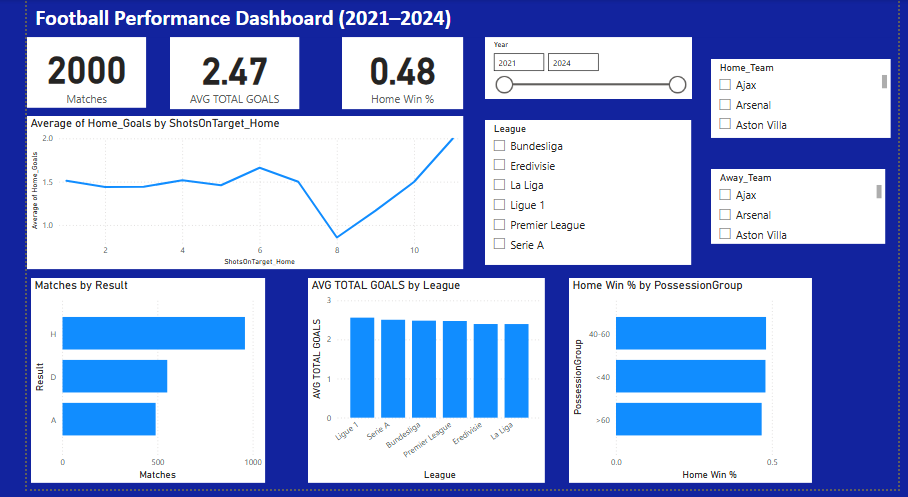

The page's visual inventory and layout, read from the dashboard file:
{"tool":"powerbi","page":{"name":"Page 1","canvas":[1280,720],"ordinal":0},"visuals":[{"type":"card","fields":{"Values":["soccer_matches_sample.Matches"]},"box":[0,55.8,174.9,104.3],"z":1},{"type":"card","fields":{"Values":["soccer_matches_sample.AVG TOTAL GOALS"]},"box":[210.1,55.8,189.6,105.8],"z":2},{"type":"card","fields":{"Values":["soccer_matches_sample.Home Win %"]},"box":[462.9,55.8,177.8,105.8],"z":3},{"type":"clusteredColumnChart","fields":{"Category":["soccer_matches_sample.League"],"Y":["soccer_matches_sample.AVG TOTAL GOALS"]},"box":[412.9,410,348.2,301.2],"z":4},{"type":"clusteredBarChart","fields":{"Category":["soccer_matches_sample.Result"],"Y":["soccer_matches_sample.Matches"]},"box":[5.9,410,343.8,301.2],"z":5},{"type":"lineChart","fields":{"Category":["soccer_matches_sample.ShotsOnTarget_Home"],"Y":["Avg(soccer_matches_sample.Home_Goals)"]},"box":[0,171.9,640.7,224.8],"z":6},{"type":"barChart","fields":{"Y":["soccer_matches_sample.Home Win %"],"Category":["soccer_matches_sample.PossessionGroup"]},"box":[796.4,410,357.1,301.2],"z":7},{"type":"slicer","fields":{"Values":["soccer_matches_sample.League"]},"box":[673,177.8,302.7,213.1],"z":8},{"type":"slicer","fields":{"Values":["soccer_matches_sample.Year"]},"box":[673,55.8,304.2,91.1],"z":9},{"type":"slicer","fields":{"Values":["soccer_matches_sample.Home_Team"]},"box":[1005.1,88.2,264.5,116.1],"z":10},{"type":"slicer","fields":{"Values":["soccer_matches_sample.Away_Team"]},"box":[1005.1,249.8,255.7,110.2],"z":11},{"type":"textbox","box":[0,2.9,1278.4,52.9],"z":12}]}

Visuals, with their boxes in screenshot pixels (x1, y1, x2, y2), scaled from the page's 1280x720 canvas onto the 908x497 screenshot:
card - soccer_matches_sample.Matches: [left=0, top=39, right=124, bottom=111]
card - soccer_matches_sample.AVG TOTAL GOALS: [left=149, top=39, right=284, bottom=112]
card - soccer_matches_sample.Home Win %: [left=328, top=39, right=454, bottom=112]
clusteredColumnChart - soccer_matches_sample.League x soccer_matches_sample.AVG TOTAL GOALS: [left=293, top=283, right=540, bottom=491]
clusteredBarChart - soccer_matches_sample.Result x soccer_matches_sample.Matches: [left=4, top=283, right=248, bottom=491]
lineChart - soccer_matches_sample.ShotsOnTarget_Home x Avg(soccer_matches_sample.Home_Goals): [left=0, top=119, right=454, bottom=274]
barChart - soccer_matches_sample.Home Win % x soccer_matches_sample.PossessionGroup: [left=565, top=283, right=818, bottom=491]
slicer - soccer_matches_sample.League: [left=477, top=123, right=692, bottom=270]
slicer - soccer_matches_sample.Year: [left=477, top=39, right=693, bottom=101]
slicer - soccer_matches_sample.Home_Team: [left=713, top=61, right=901, bottom=141]
slicer - soccer_matches_sample.Away_Team: [left=713, top=172, right=894, bottom=248]
textbox: [left=0, top=2, right=907, bottom=39]
